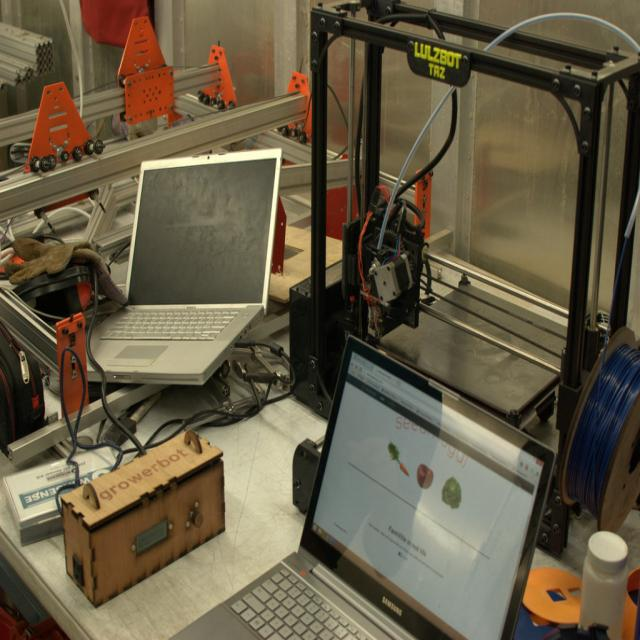Box: (64, 421, 238, 599)
